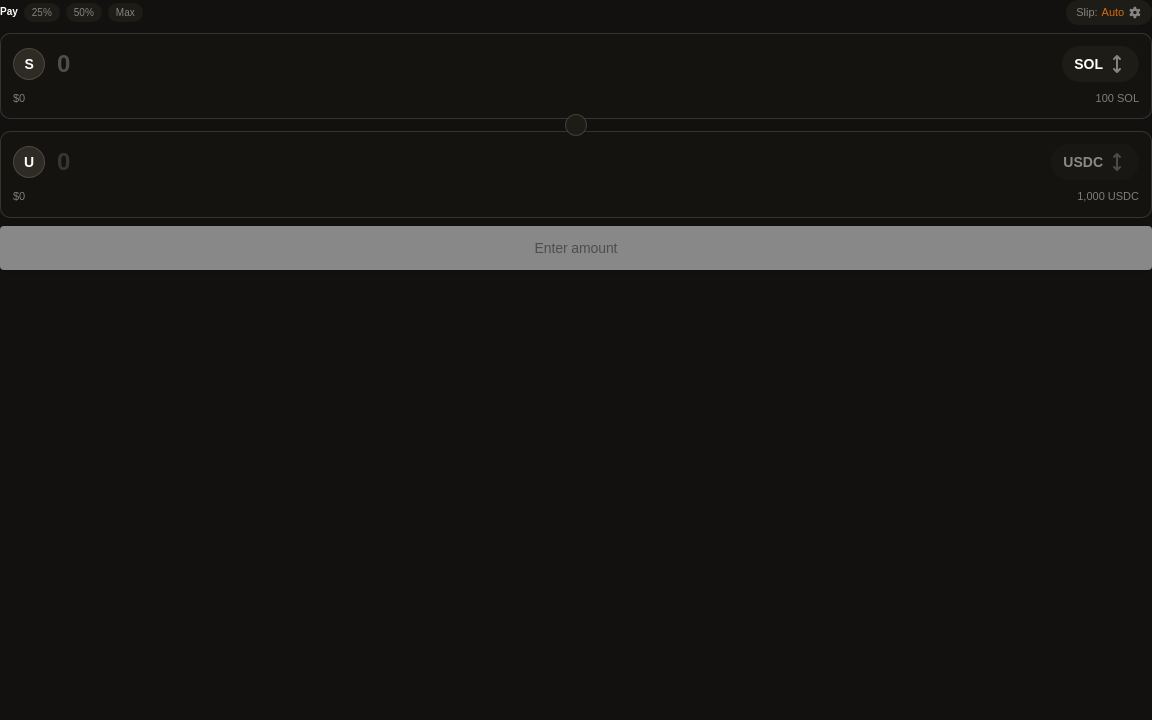
it: SwapWidget › Slippage Popover › should open slippage popover on click
Click the button with aria-label "slippage tolerance" at x=1109, y=12, box [1066, 0, 1151, 24]
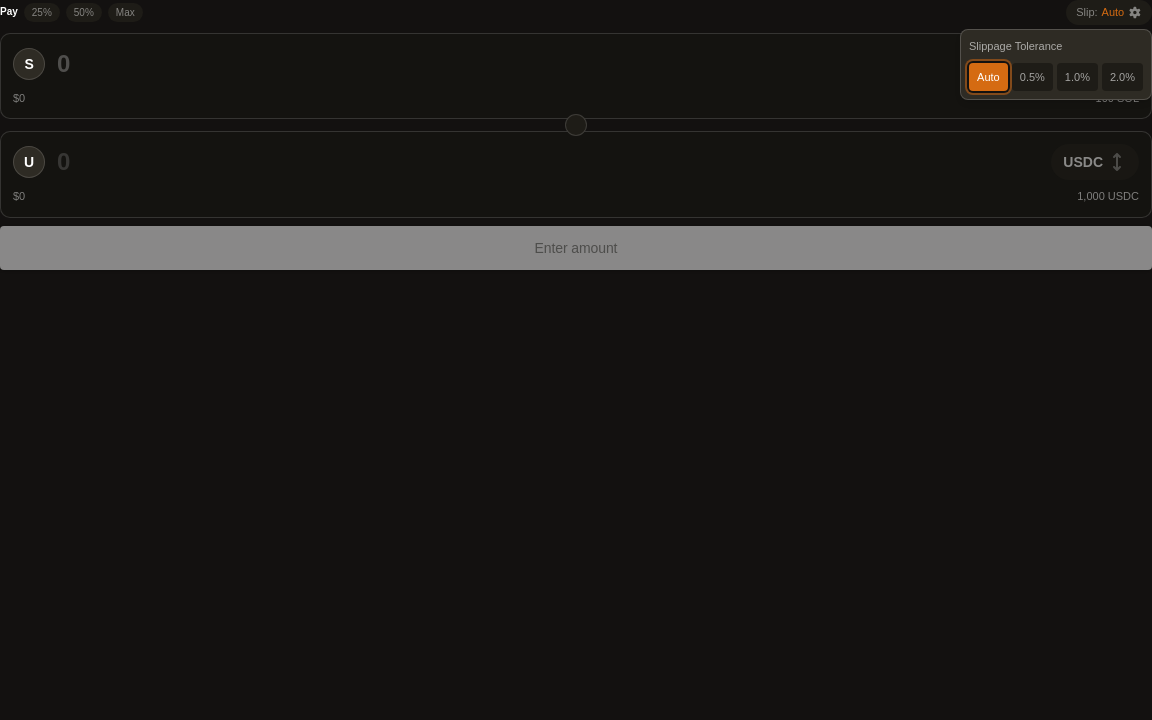
expect the text "Slippage Tolerance" is shown: met, box [969, 40, 1062, 52]
